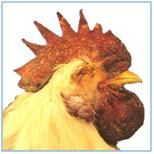AbNormal: (19, 9, 145, 144)
